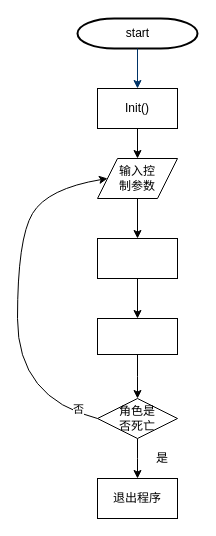
Image size: 216x536. Some labels were removed from this diagram. The shapes that lost their labels are listed below. From the top down, each one's box as (x1, y1, x2, y2) in pixels, then its label:
(96, 238, 178, 278): 根据输入处理对象
(96, 318, 178, 354): 碰撞检测
